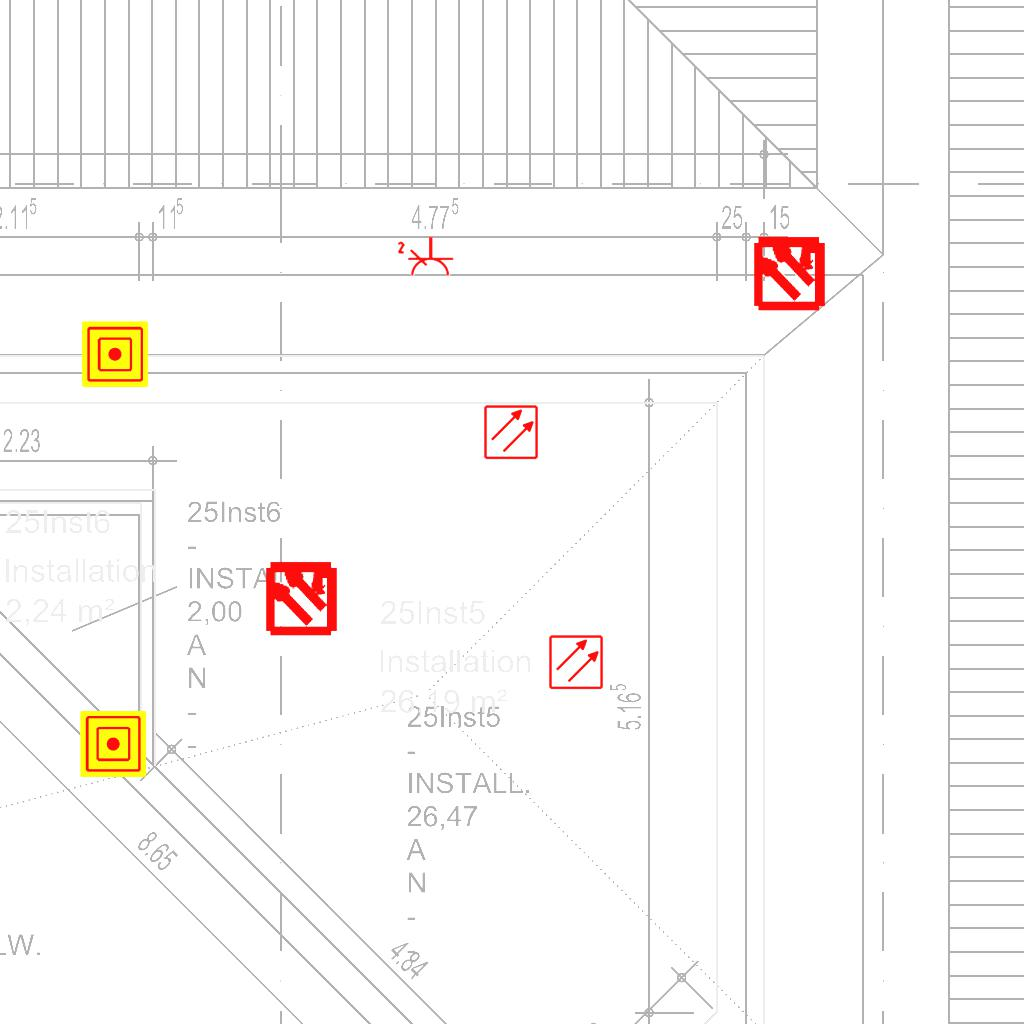NAM-Nichtautomatischer_Melder: (82, 321, 148, 387), (80, 711, 146, 777)
OT_Multisensormelder_(Kombination_RMO_WMD): (245, 540, 358, 653), (733, 215, 846, 328)
RMO_Rauchmelder_optischer: (483, 404, 539, 460), (548, 634, 604, 690)
Schukosteckdose_mehrfach: (396, 234, 456, 278)
